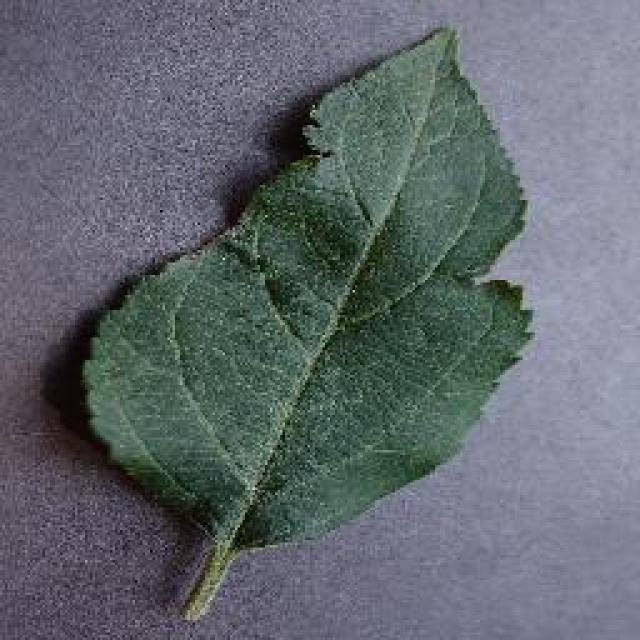Apple___healthy: (70, 12, 548, 630)
